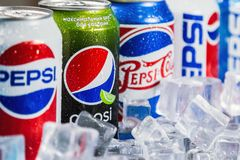pepsi: (65, 46, 114, 102)
